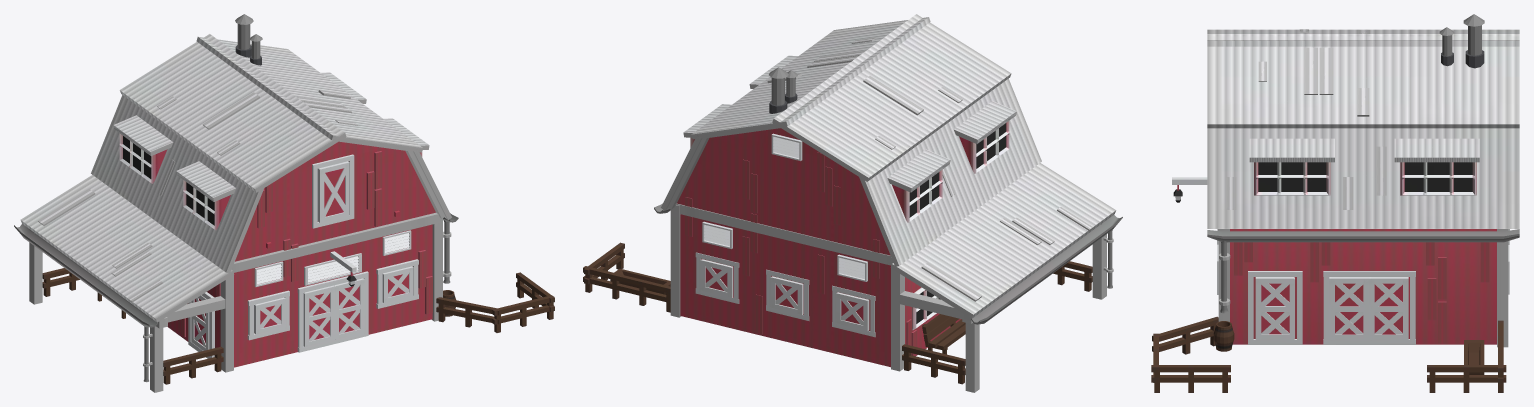
The model's file is dSsUaUlaxHk.glb.
The picture shows the model from 3 angles, left to right: view 1: azimuth 30°, elevation 25°; view 2: azimuth 150°, elevation 25°; view 3: azimuth 270°, elevation 25°; orthographic projection. The views are drawn at different scales.
Parts seen in each view (by area): view 1: Barn1; view 2: Barn1; view 3: Barn1.
Part boxes in pixels (<box>): Barn1: <box>14,14,554,392</box>; Barn1: <box>583,14,1122,392</box>; Barn1: <box>1151,14,1519,392</box>.
Bounding box in the file's own units: 1.61 × 1 × 1.16.
Materials: 1 (1 with a texture image).
